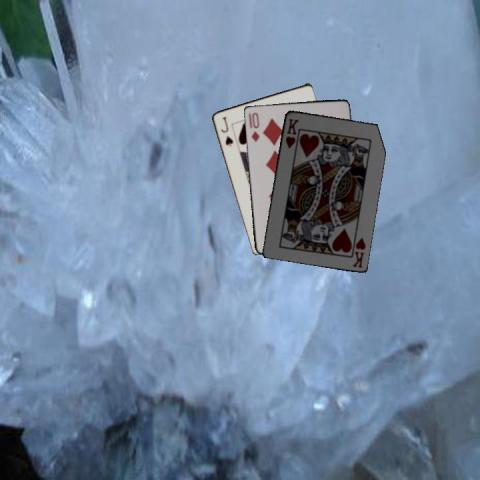10d: (248, 110, 261, 144)
Js: (217, 114, 234, 147)
Kh: (282, 115, 300, 150), (349, 235, 367, 269)
